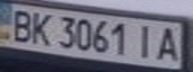0: (72, 16, 93, 52)
1: (109, 19, 133, 56)
3: (54, 14, 78, 50)
6: (90, 18, 112, 55)
A: (151, 25, 184, 63)
B: (6, 7, 36, 43)
I: (133, 21, 160, 61)
K: (27, 10, 57, 47)
